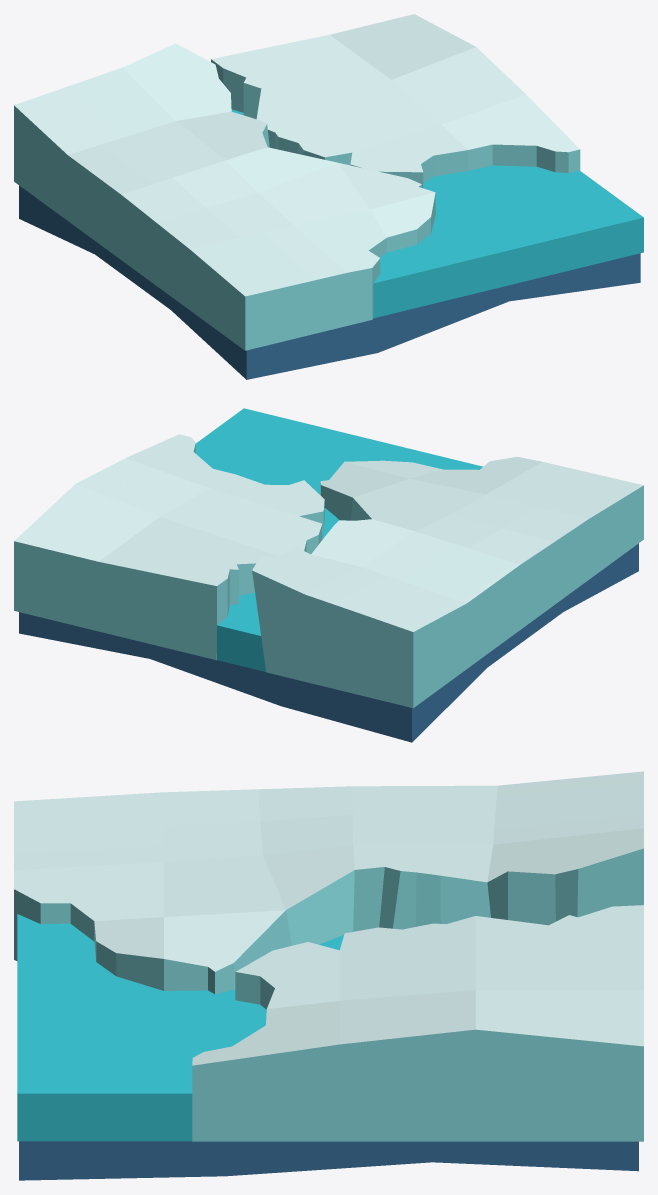
File: world-ice.glb
3 views of the same model, one above another, from view 1: azimuth 30°, elevation 25°; view 2: azimuth 150°, elevation 25°; view 3: azimuth 270°, elevation 25° (orthographic). The views are drawn at different scales.
Visible parts, largest first — view 1: world-ice; view 2: world-ice; view 3: world-ice.
Boxes of the visible parts, x1,y1,x2,y2 form: world-ice: [14, 14, 643, 379]; world-ice: [14, 408, 643, 742]; world-ice: [14, 771, 643, 1180].
Size of the model in its own units: 30 by 9.69 by 30.
Materials: 1 (1 with a texture image).
